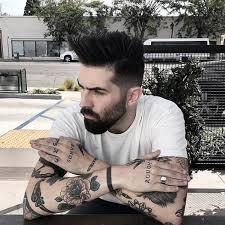b.y: (80, 109, 102, 134)
